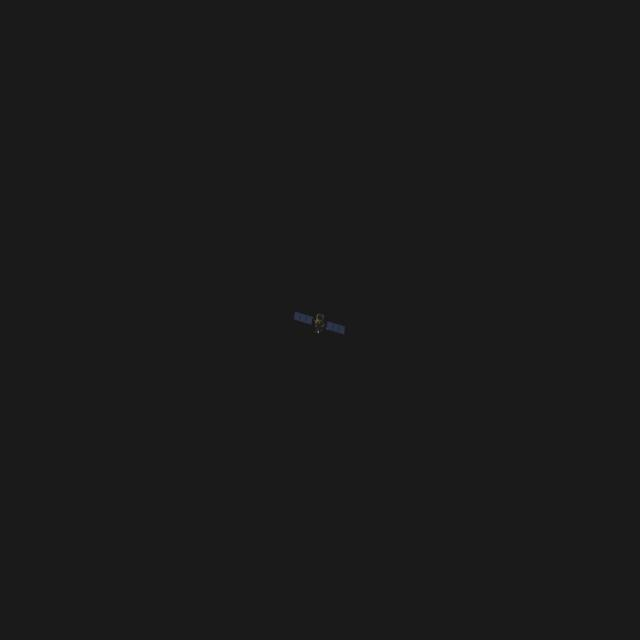satellite: (290, 306, 346, 345)
